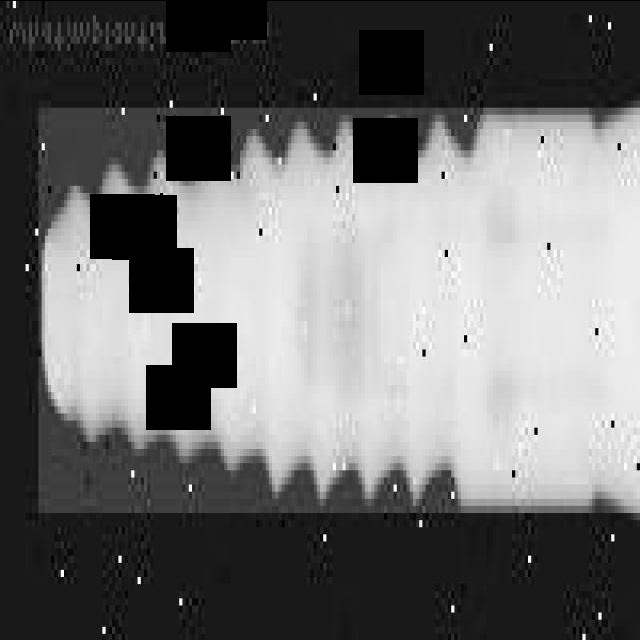Osstem Implant: (34, 107, 640, 528)
